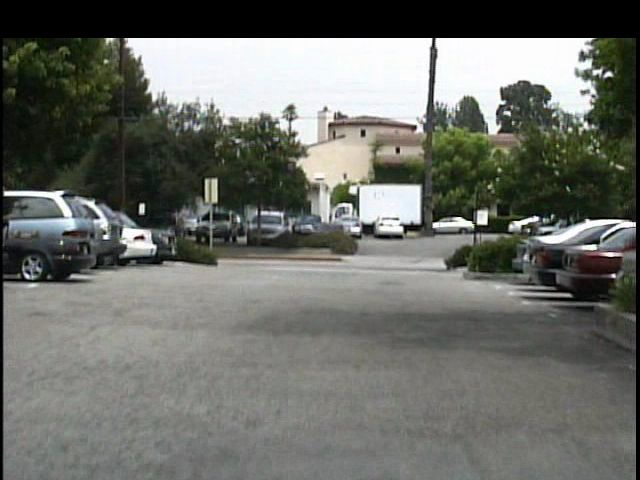person: (171, 208, 194, 249)
